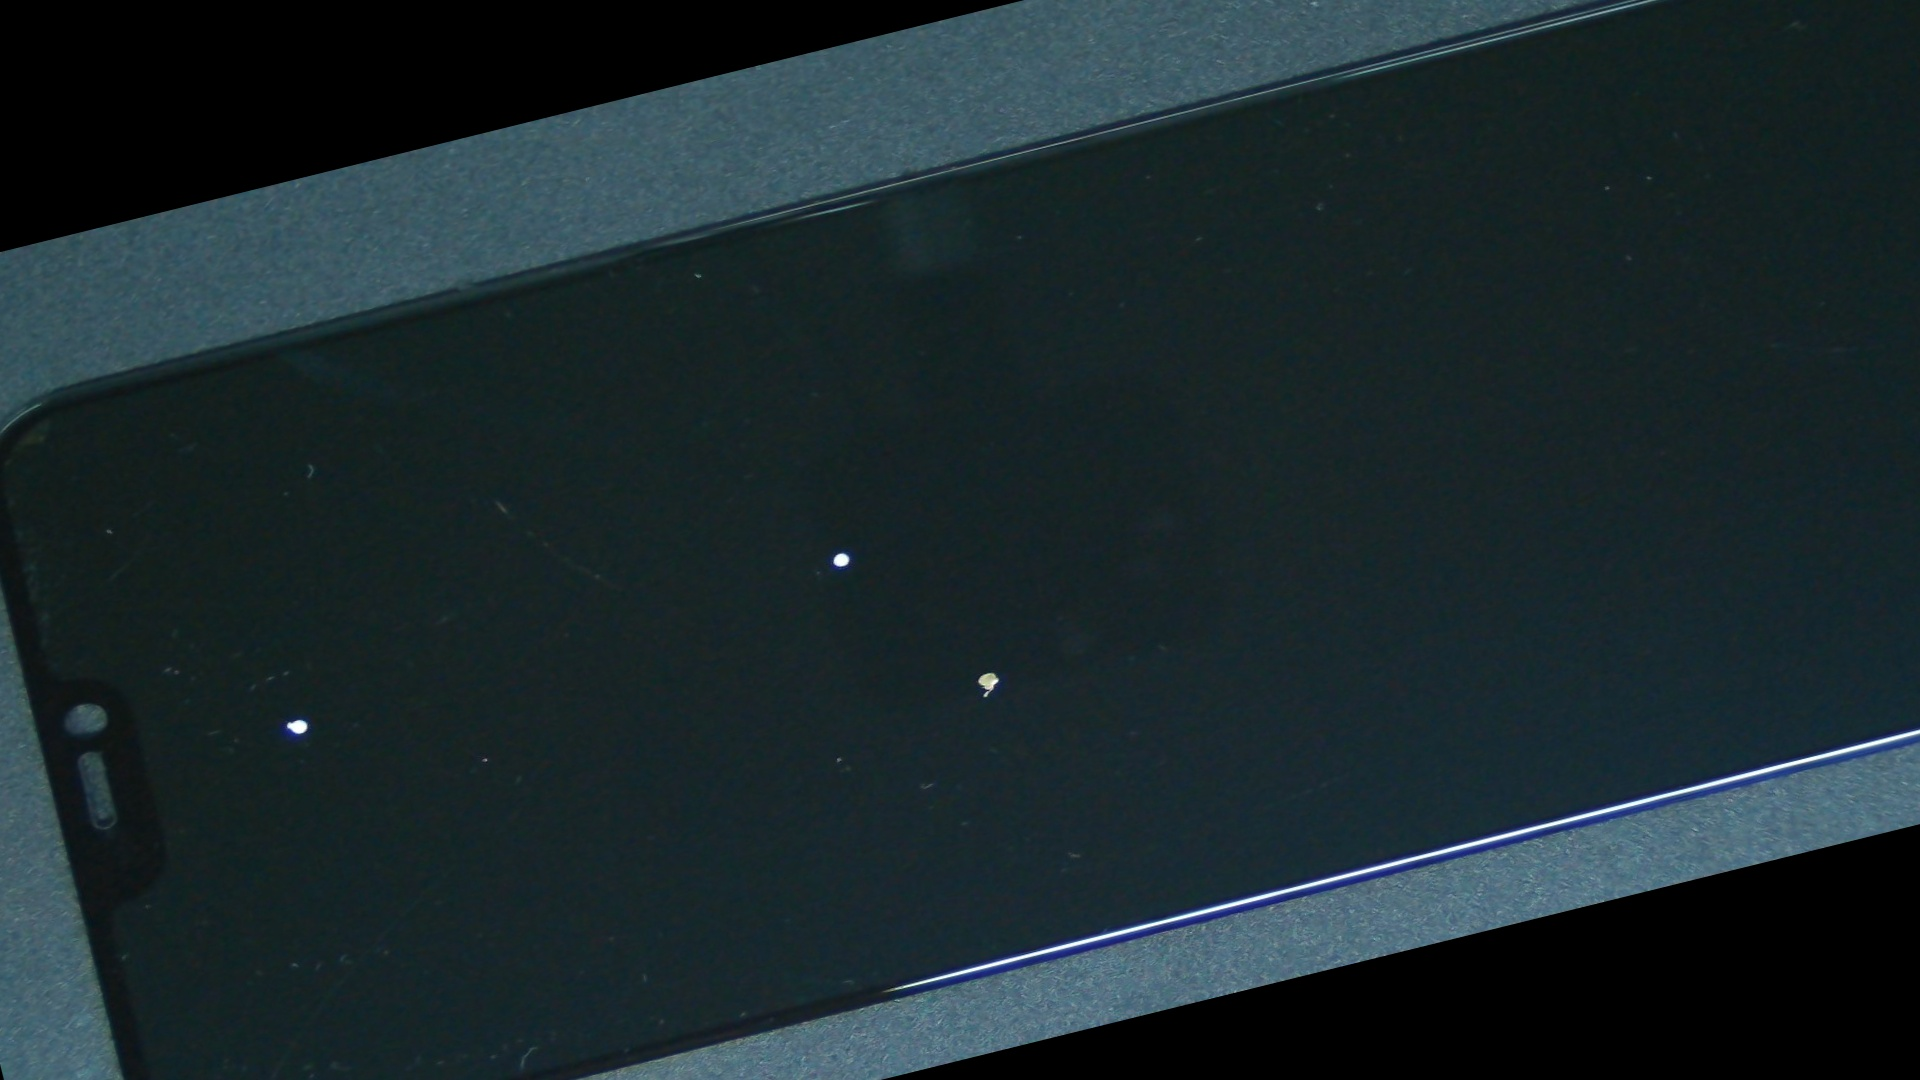oil: (397, 236, 1564, 1080), (328, 200, 1358, 905), (50, 422, 525, 1017)
